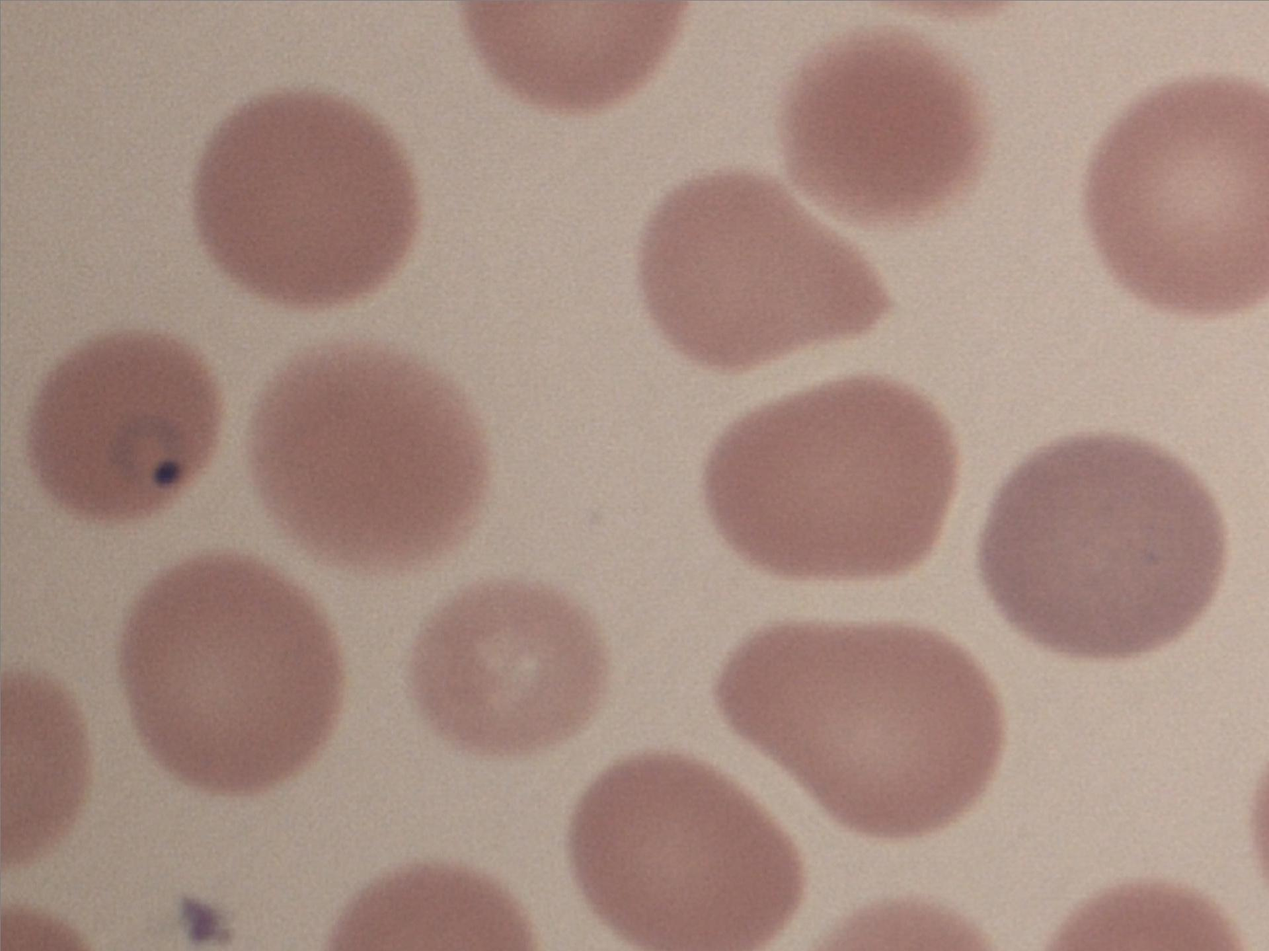Infected: (35, 331, 229, 511)
Uninfected: (718, 613, 1012, 831), (983, 435, 1238, 661), (112, 556, 341, 800), (256, 333, 491, 564), (701, 377, 961, 581), (641, 170, 900, 365), (189, 93, 420, 305), (1088, 62, 1269, 323), (573, 750, 802, 951), (789, 38, 991, 227), (403, 576, 608, 749)
